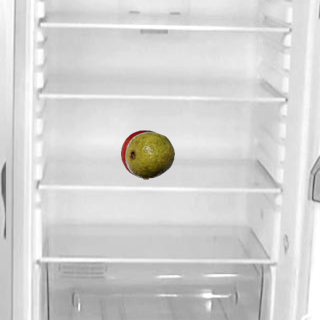Apple Braeburn: (120, 129, 170, 179)
Guava: (124, 129, 174, 179)
